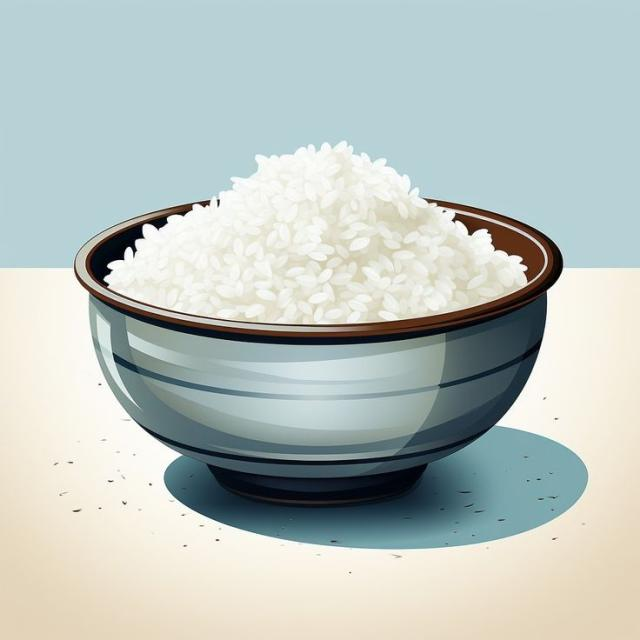Chicken -Chicken Inasal-: (164, 161, 493, 342)
